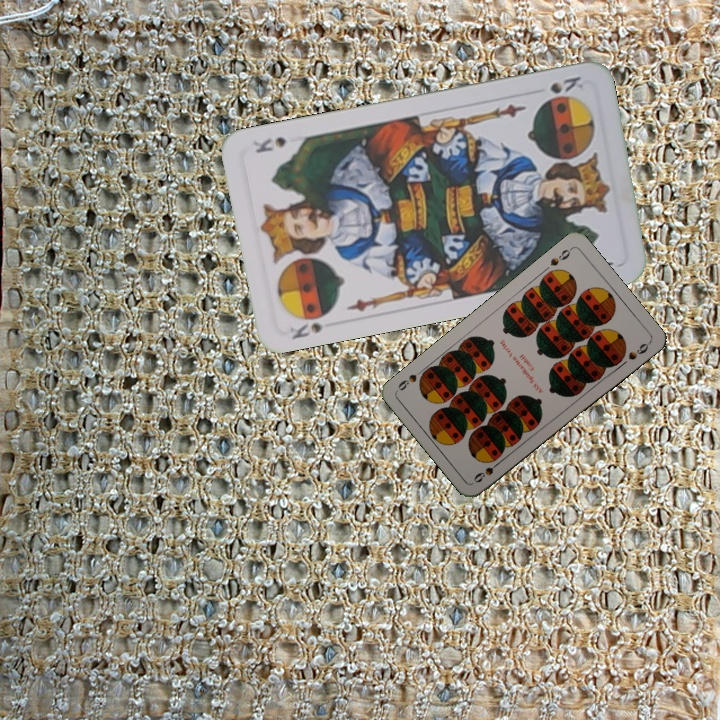S9: (470, 456, 505, 485), (546, 243, 575, 269)
SK: (546, 72, 586, 96), (286, 318, 326, 342)
